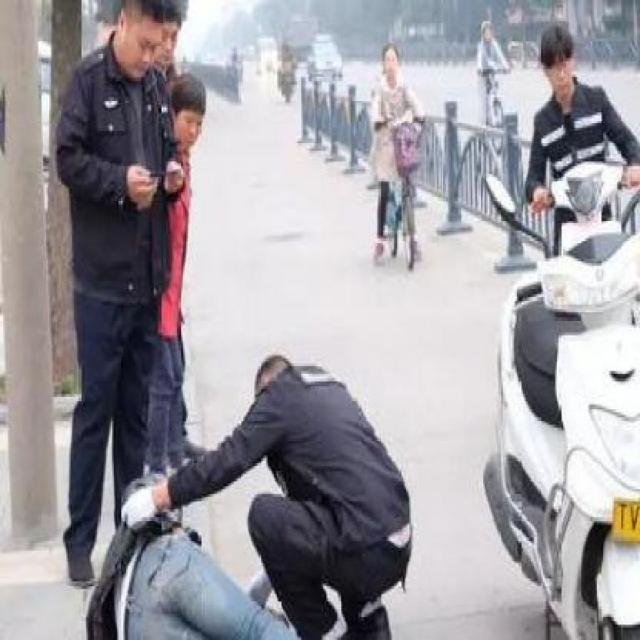fall: (78, 464, 360, 638)
